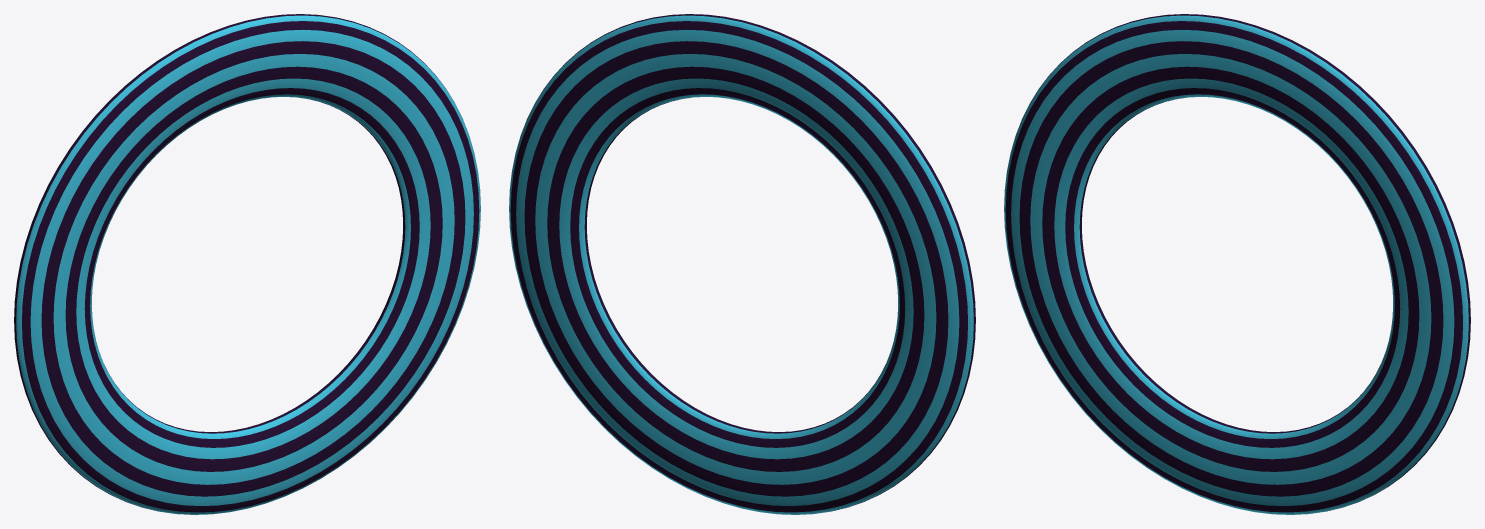
Rendered from ligne_arrivee_export.fbx.
3 renders of one model, left to right at view 1: azimuth 30°, elevation 25°; view 2: azimuth 150°, elevation 25°; view 3: azimuth 330°, elevation 25°, orthographic.
Parts seen in each view (by area): view 1: pTorus1; view 2: pTorus1; view 3: pTorus1.
Boxes of the visible parts, x1=… form: pTorus1: x1=14, y1=14, x2=480, y2=514; pTorus1: x1=509, y1=14, x2=975, y2=514; pTorus1: x1=1004, y1=14, x2=1470, y2=514.
Bounding box in the file's own units: 2.36 × 2.36 × 0.1182.
